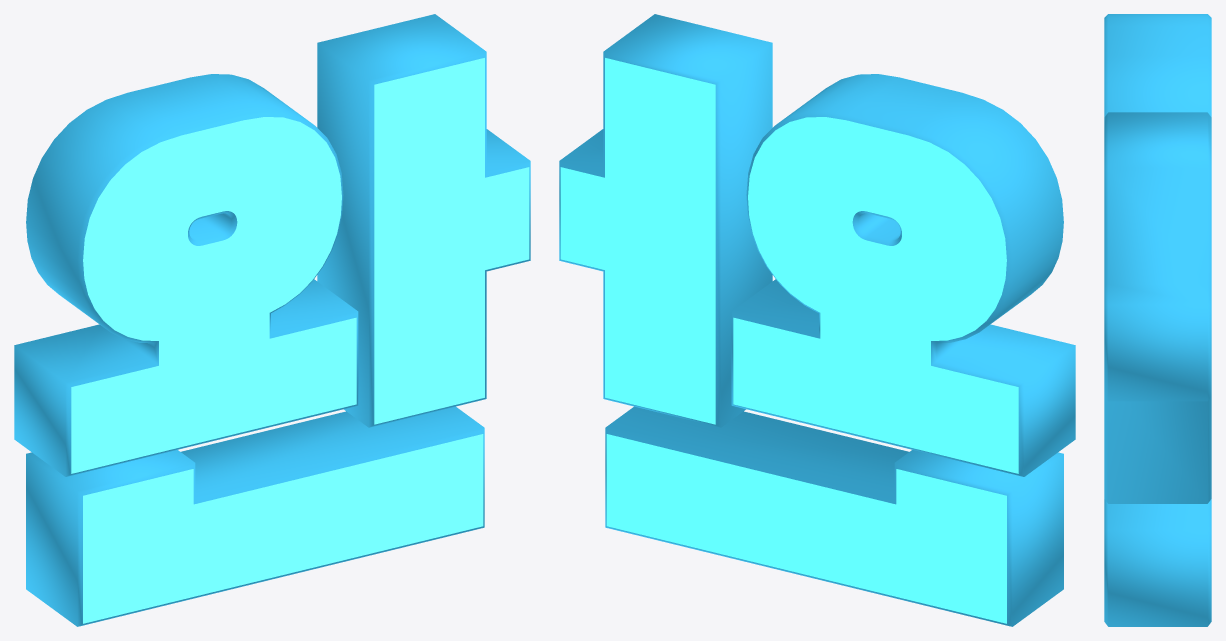
3 renders of one model, left to right at view 1: azimuth 30°, elevation 25°; view 2: azimuth 150°, elevation 25°; view 3: azimuth 270°, elevation 25°, orthographic. The views are drawn at different scales.
Parts seen in each view (by area): view 1: glyph; view 2: glyph; view 3: glyph.
Part boxes in pixels (x1,y1,x2,y2): glyph: (14, 14, 530, 626); glyph: (559, 14, 1075, 626); glyph: (1104, 14, 1211, 626).
Size of the model in its own units: 0.0784 by 0.0766 by 0.0162.
